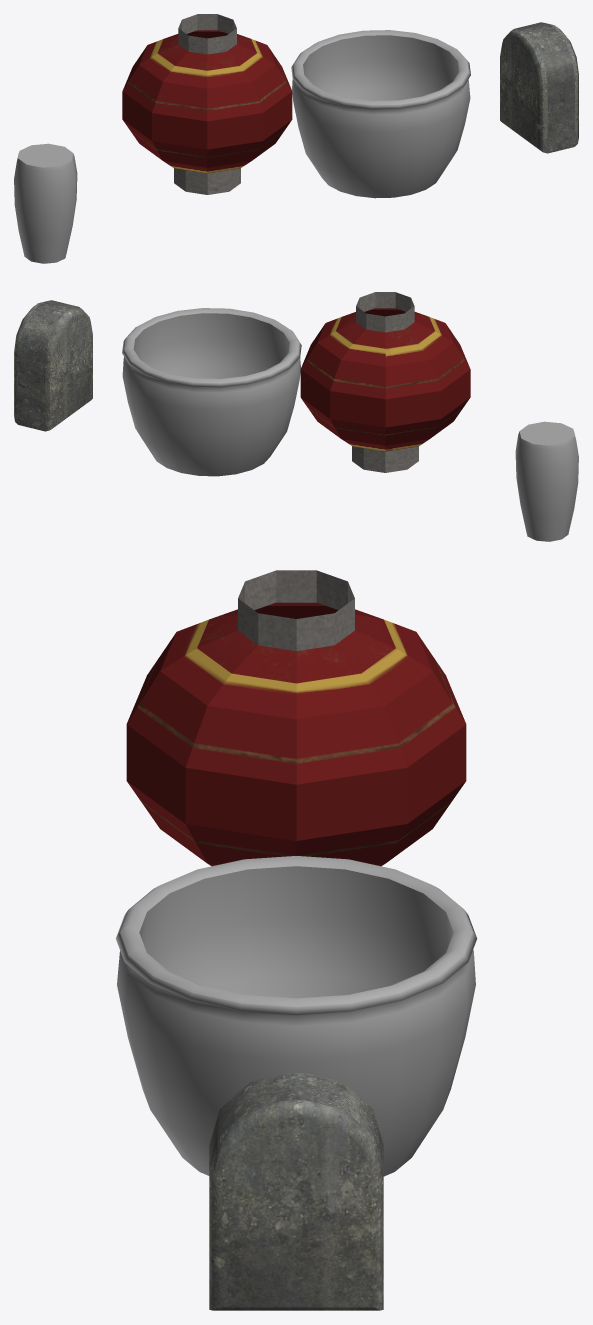
Rendered from hutongProps_old.fbx.
The picture shows the model from 3 angles, top to bottom: view 1: azimuth 30°, elevation 25°; view 2: azimuth 150°, elevation 25°; view 3: azimuth 270°, elevation 25°; orthographic projection. The views are drawn at different scales.
Parts seen in each view (by area): view 1: hutong_Pot_big, hutong_lantern, hutong_doorStone, hutong_stool; view 2: hutong_Pot_big, hutong_lantern, hutong_doorStone, hutong_stool; view 3: hutong_Pot_big, hutong_lantern, hutong_doorStone.
Boxes of the visible parts, <box> form: hutong_Pot_big: <box>291,30,470,198</box>; hutong_lantern: <box>122,14,292,194</box>; hutong_doorStone: <box>500,22,578,153</box>; hutong_stool: <box>14,143,77,263</box>; hutong_Pot_big: <box>122,308,301,476</box>; hutong_lantern: <box>300,292,470,472</box>; hutong_doorStone: <box>14,300,92,431</box>; hutong_stool: <box>515,421,578,541</box>; hutong_Pot_big: <box>115,856,477,1176</box>; hutong_lantern: <box>126,570,466,866</box>; hutong_doorStone: <box>209,1073,383,1310</box>.
Size of the model in its own units: 270 by 90.4 by 78.22.
Materials: 3 (2 with a texture image).
